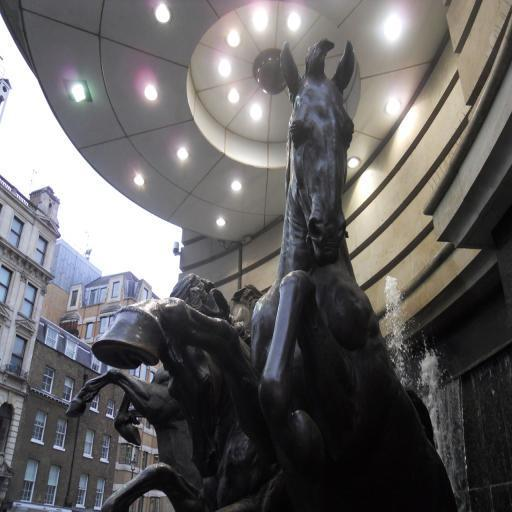horse: (90, 40, 459, 512), (66, 364, 202, 512)
